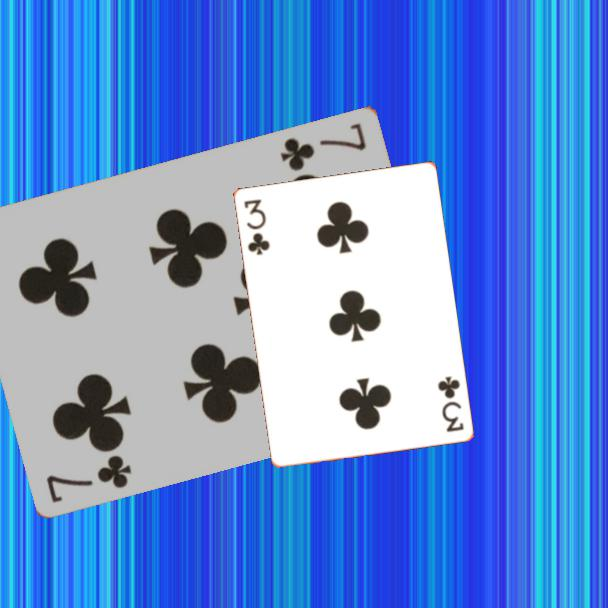c03: (240, 195, 272, 258), (434, 372, 466, 435)
c07: (277, 119, 369, 174), (43, 451, 135, 505)
